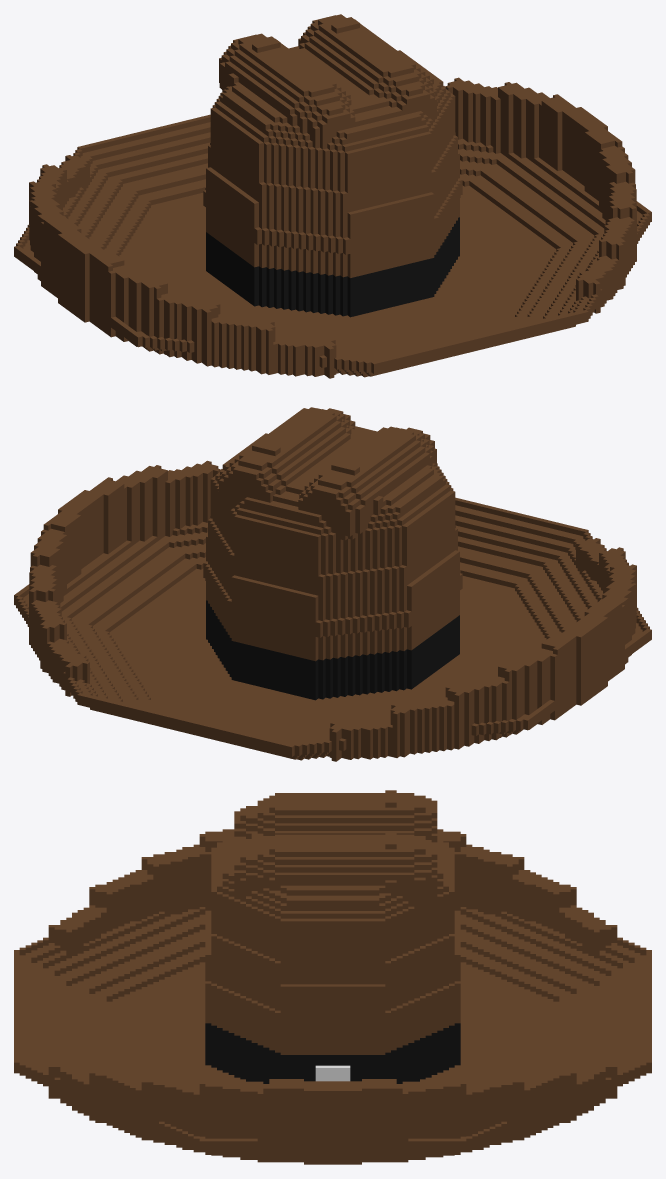
The model's file is ten_gallon_hat.glb.
The picture shows the model from 3 angles, top to bottom: view 1: azimuth 30°, elevation 25°; view 2: azimuth 150°, elevation 25°; view 3: azimuth 270°, elevation 25°; orthographic projection. The views are drawn at different scales.
Visible parts, largest first — view 1: ten_gallon_hat:compound; view 2: ten_gallon_hat:compound; view 3: ten_gallon_hat:compound.
Boxes of the visible parts, left/top/right/bottom form: ten_gallon_hat:compound: left=14, top=14, right=651, bottom=378; ten_gallon_hat:compound: left=14, top=407, right=651, bottom=761; ten_gallon_hat:compound: left=14, top=790, right=651, bottom=1164.
Size of the model in its own units: 0.448 by 0.18 by 0.44.
